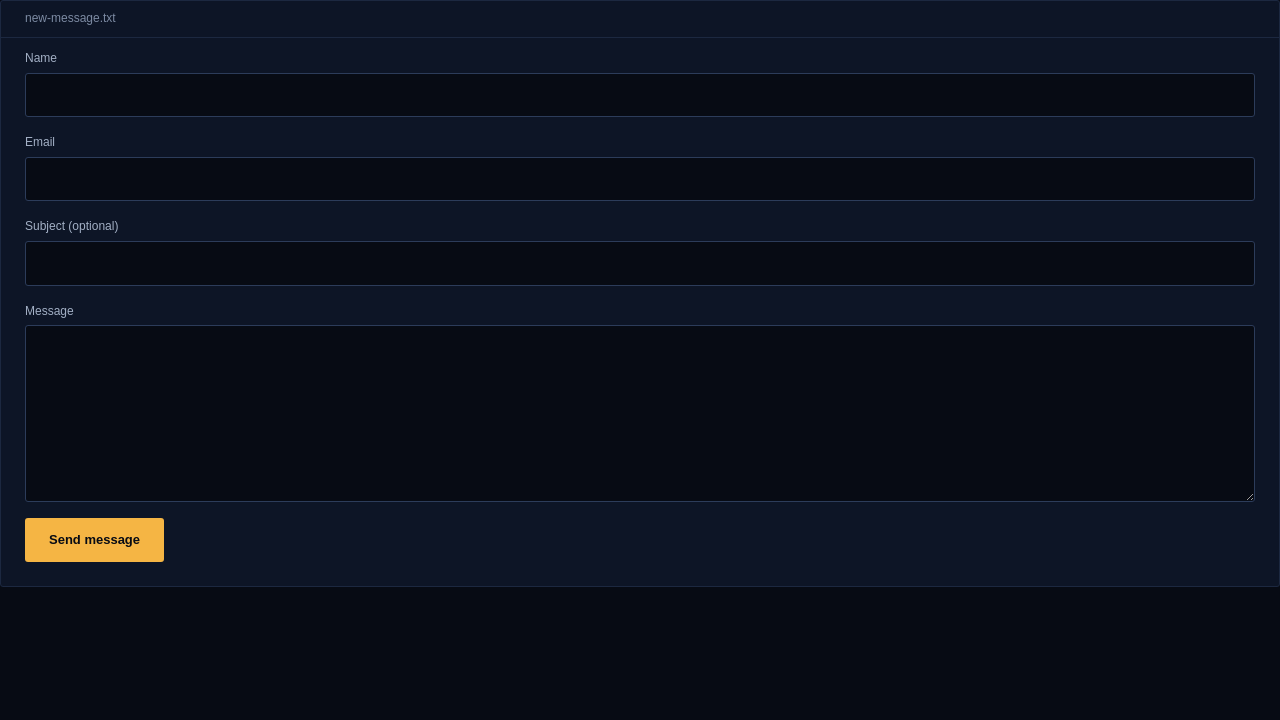
Test: ContactForm › sends the message with the access key and confirms success
Type "Ada Lovelace" into the field labelled "Name" at (640, 95), box [25,73,1255,117]
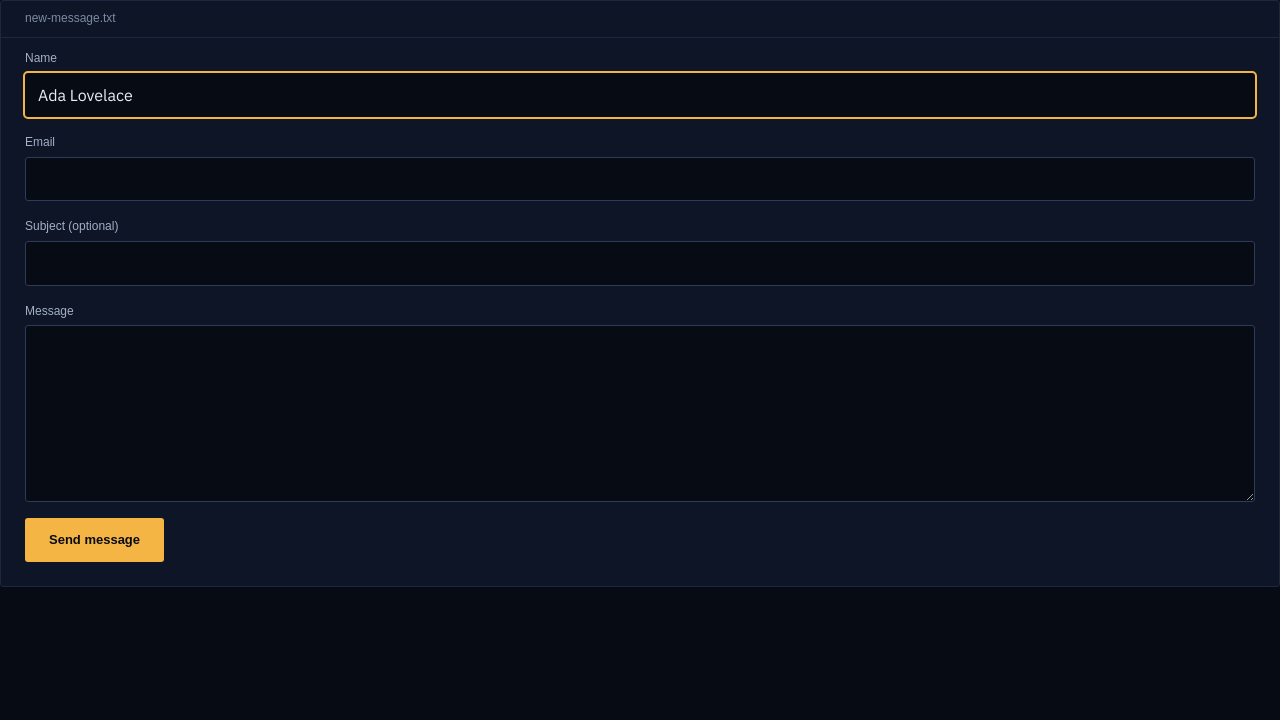
Type "ada@example.com" into the field labelled "Email" at (640, 179), box [25,157,1255,201]
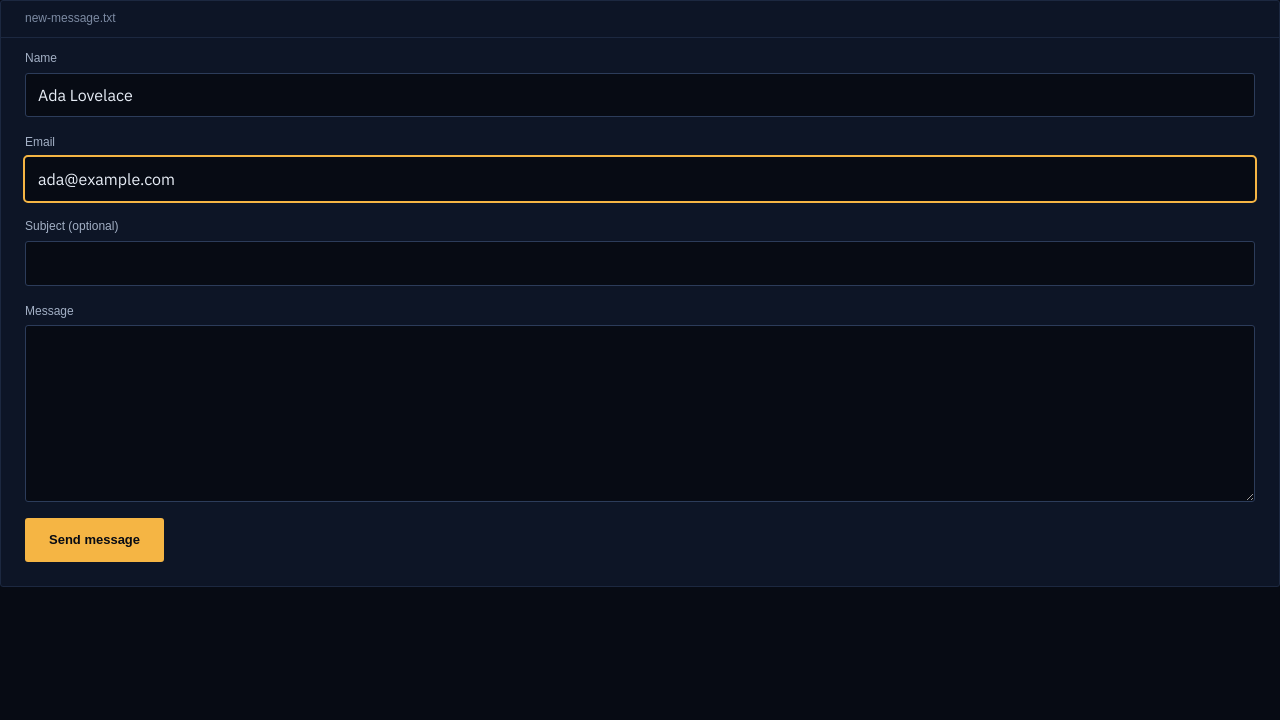
Type "Project" into the field labelled "Subject (optional)" at (640, 263), box [25,241,1255,286]
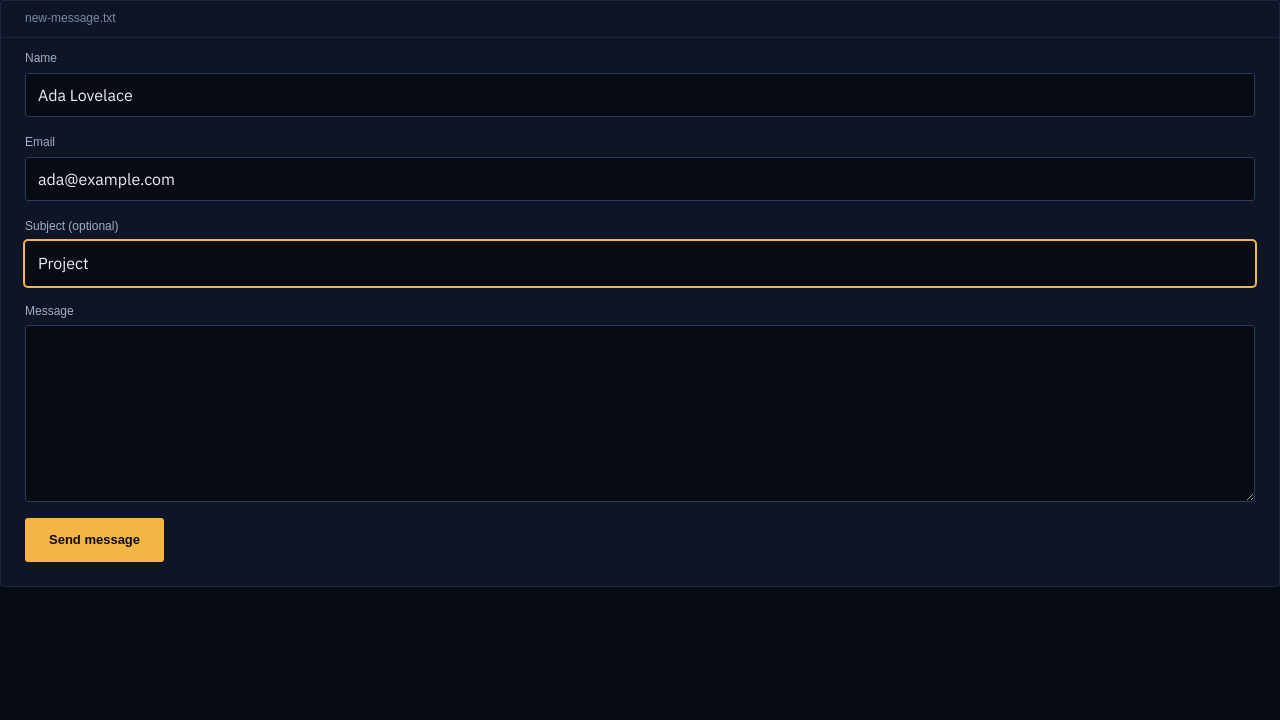
Type "I would like to talk about a project." into the text box labelled "Message" at (640, 414), box [25,325,1255,502]
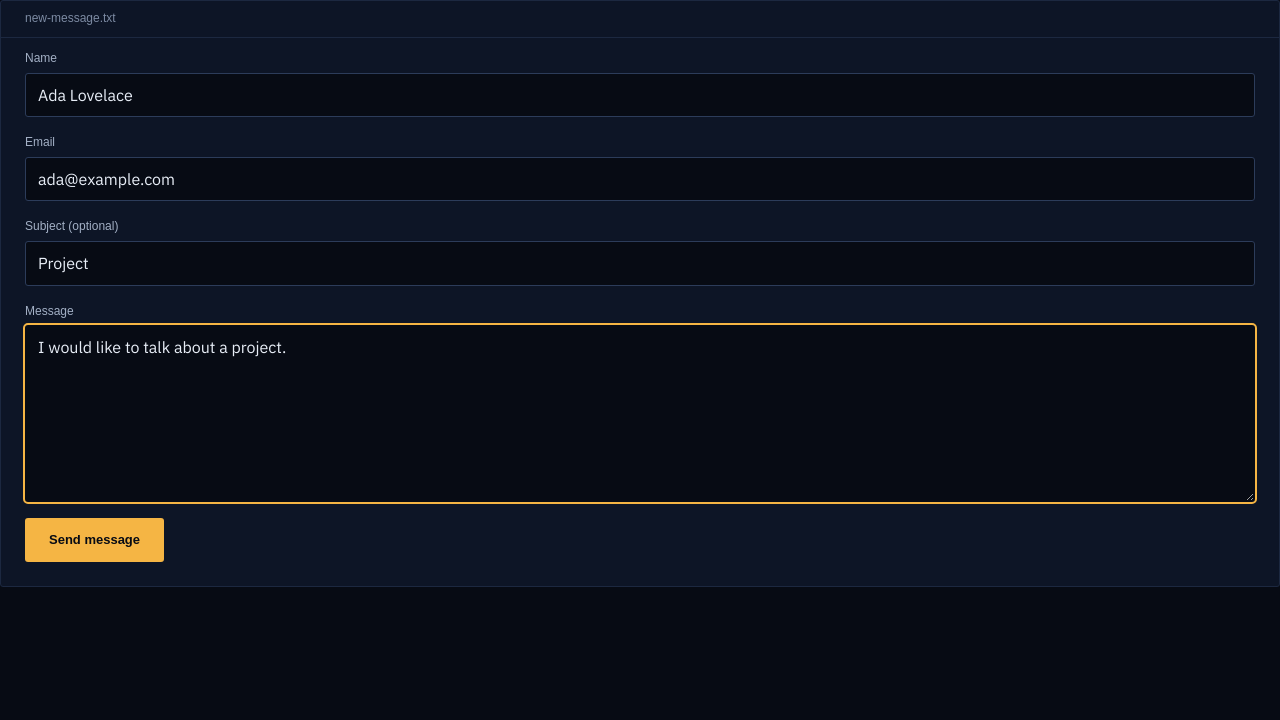
Click the button "Send message" at (94, 540), box [25,518,164,562]
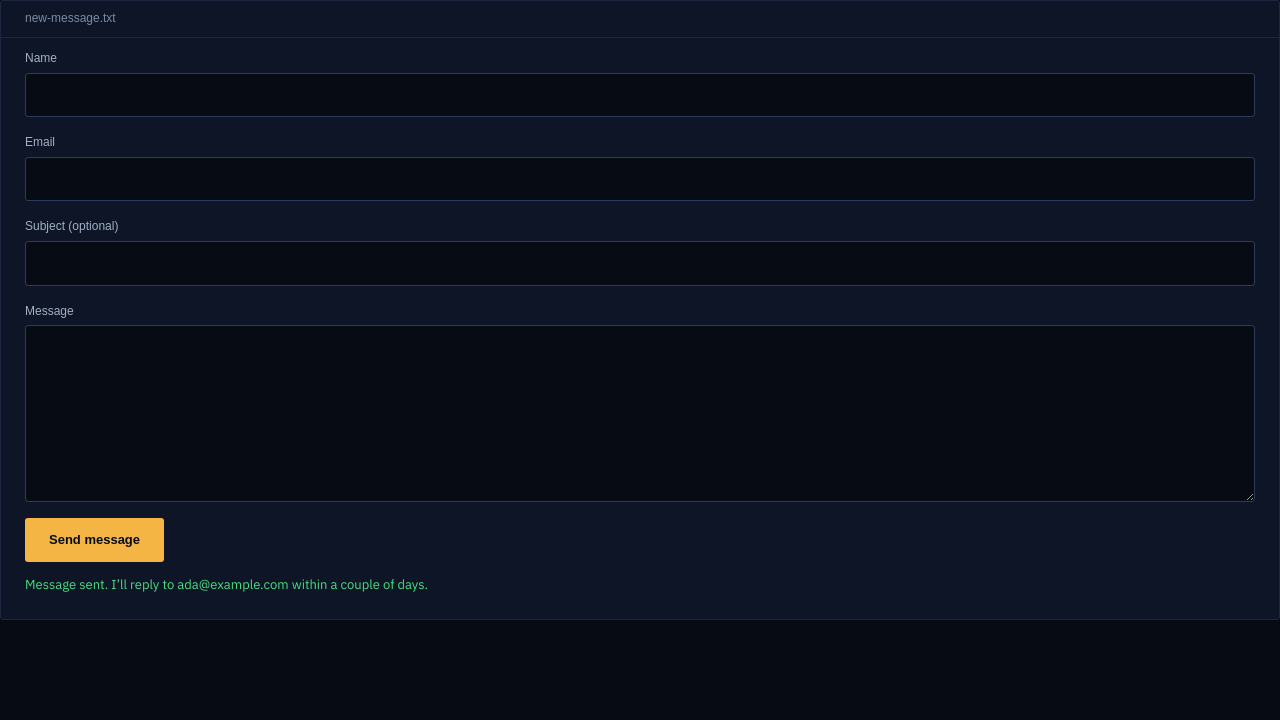
Result: the message shows "Message sent. I’ll reply to ada@example.com" at [25,576,428,593]
Result: the text box labelled "Message" is empty at [25,325,1255,502]
